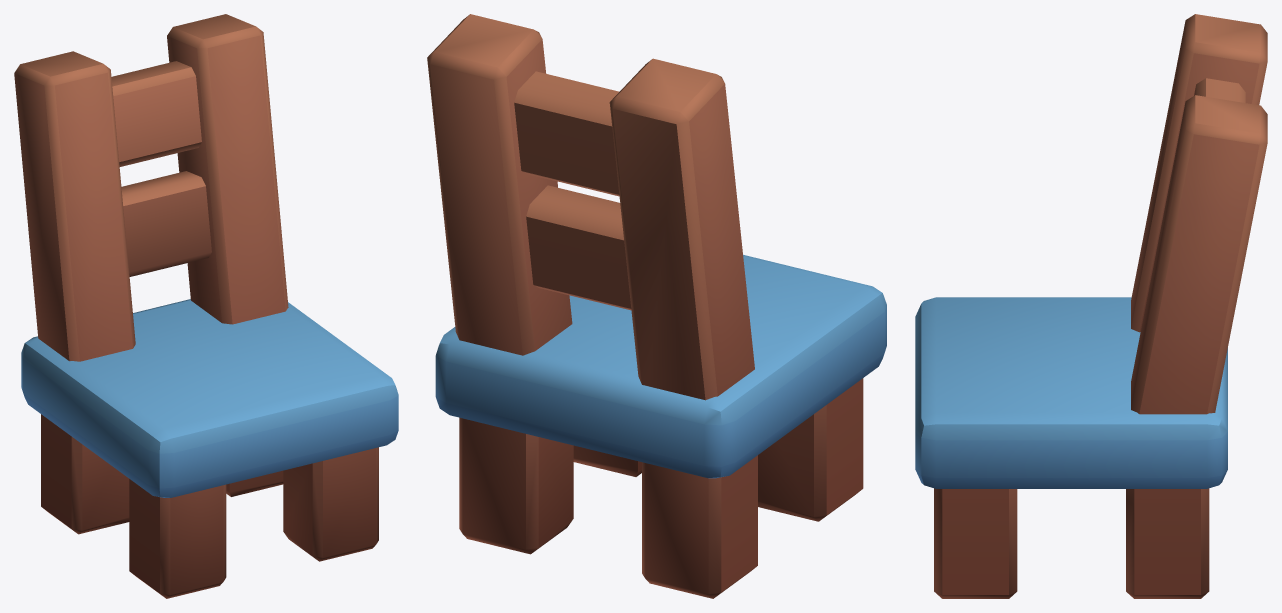
File: kk_chair.glb
3 views of the same model, side by side, from view 1: azimuth 30°, elevation 25°; view 2: azimuth 150°, elevation 25°; view 3: azimuth 270°, elevation 25° (orthographic). The views are drawn at different scales.
Visible parts, largest first — view 1: chair_A; view 2: chair_A; view 3: chair_A.
Boxes of the visible parts, box(x1,y1,x2,y2) form: chair_A: box(14, 14, 398, 598); chair_A: box(427, 14, 886, 598); chair_A: box(915, 14, 1267, 598).
Bounding box in the file's own units: 0.5662 × 0.95 × 0.638.
Materials: 1 (1 with a texture image).
